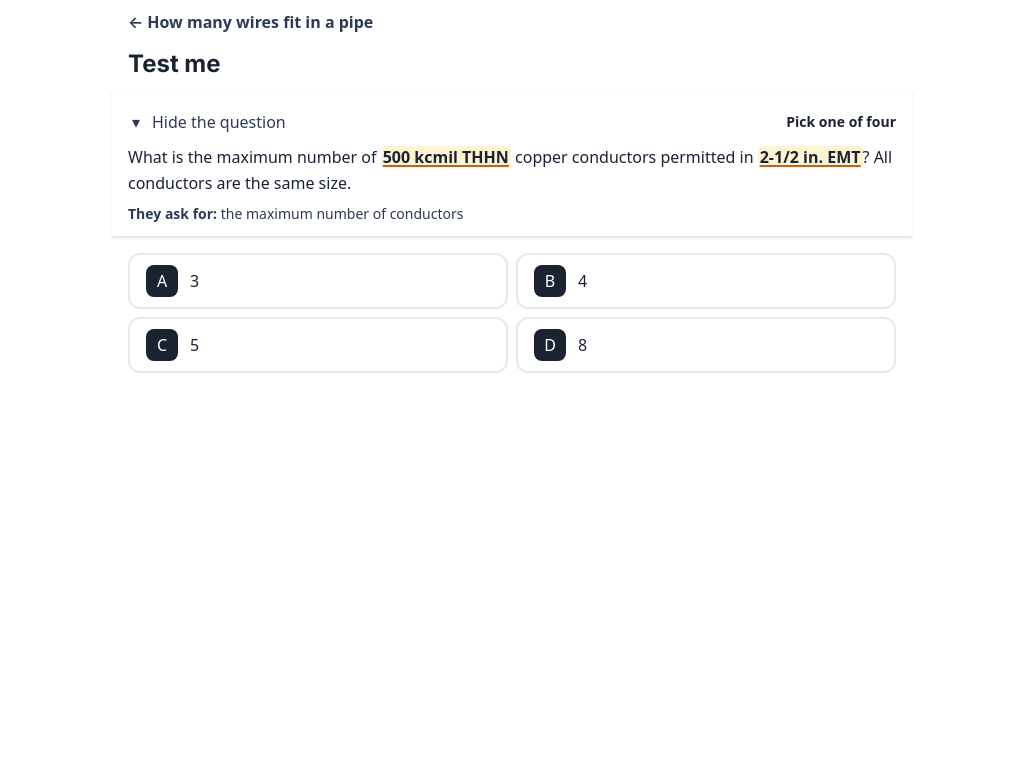
Test case: Test me › a wrong pick says which mistake builds it and the rule, then shows the worked answer
Click the button "B 4". click: (550,281)
box: top-left (516, 253), bottom-right (896, 309)
(page scrolled)
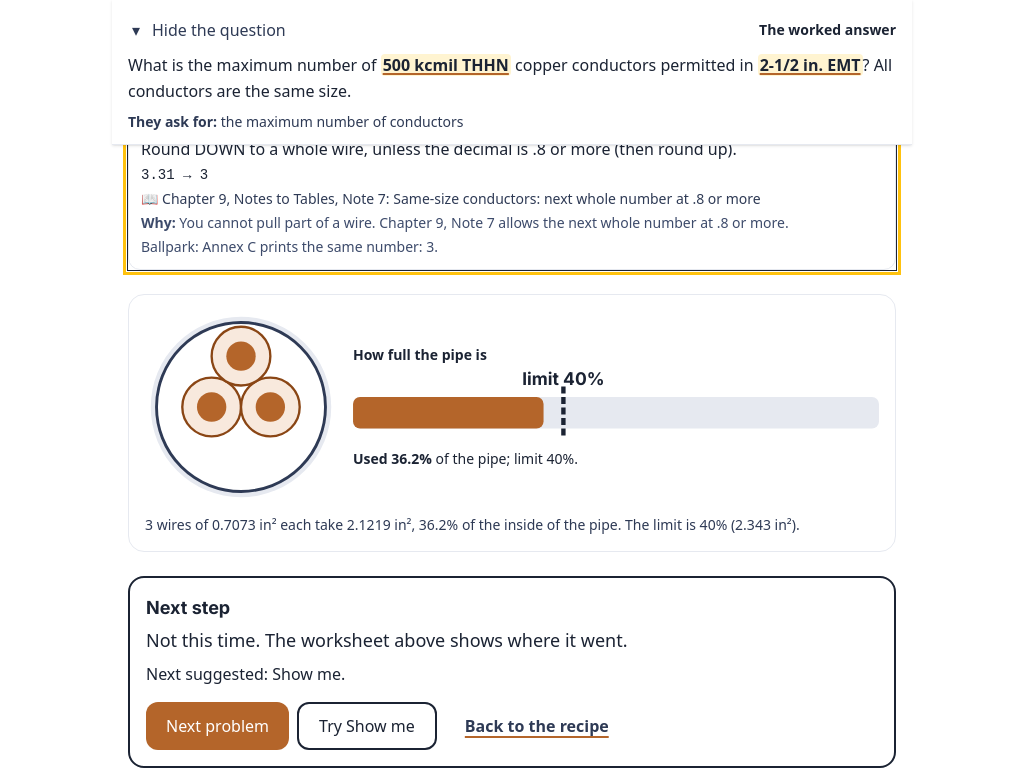
Check: the text "Maximum number of conductors" is shown, box top-left (159, 110), bottom-right (421, 132)
Check: the picture named "Cross-section" is shown, box top-left (145, 311), bottom-right (337, 503)
Check: the button "Next problem" is shown, box top-left (146, 702), bottom-right (289, 750)
